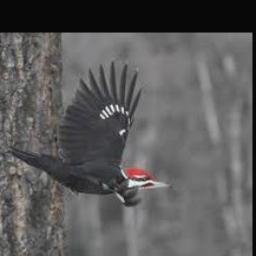Woodpecker: (6, 61, 173, 206)
